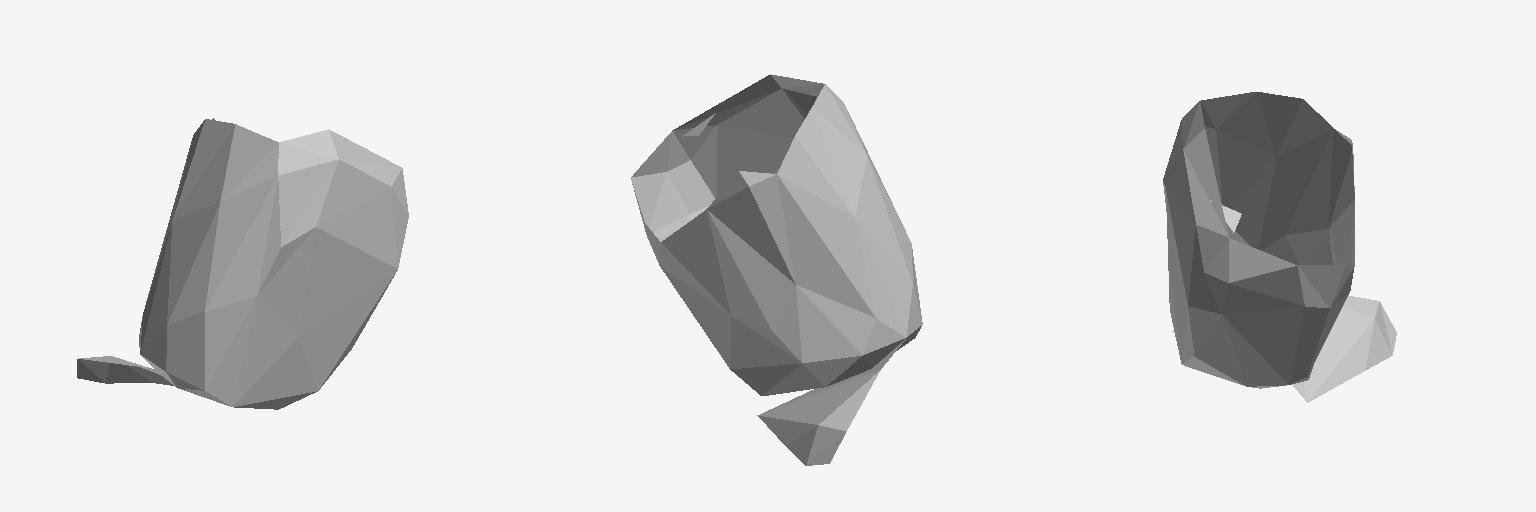
The model's file is LeftMHand.obj.
3 views of the same model, side by side, from view 1: azimuth 30°, elevation 25°; view 2: azimuth 150°, elevation 25°; view 3: azimuth 270°, elevation 25° (orthographic).
Parts seen in each view (by area): view 1: Stone:Mesh; view 2: Stone:Mesh; view 3: Stone:Mesh.
Boxes of the visible parts, x1=… form: Stone:Mesh: x1=77, y1=118, x2=408, y2=409; Stone:Mesh: x1=631, y1=74, x2=922, y2=465; Stone:Mesh: x1=1163, y1=92, x2=1396, y2=402.
Bounding box in the file's own units: 2.24 × 2.47 × 1.76.